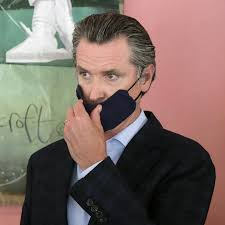nose: (87, 93, 105, 101)
